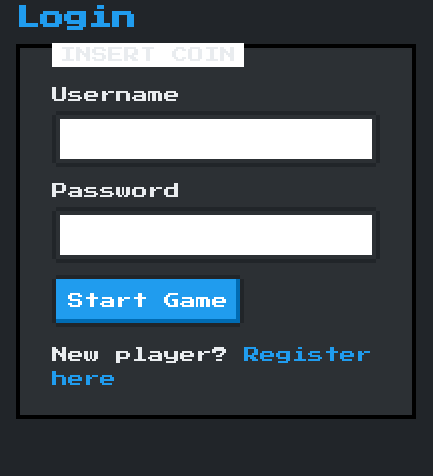
Test: Login page (integration) › failed login shows error message
Type "bad" into the field labelled "Username".
click(216, 139); type("bad")  # box left=56, top=115, right=376, bottom=163
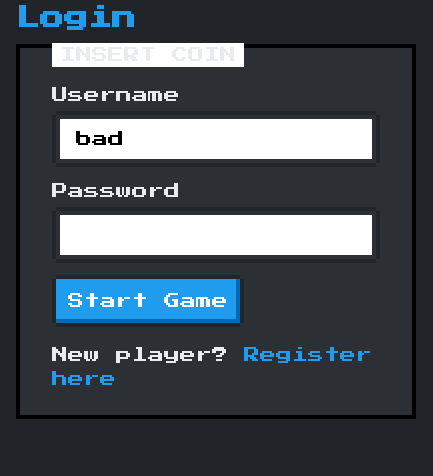
Type "wrong" into the password field labelled "Password".
click(216, 235); type("wrong")  # box left=56, top=211, right=376, bottom=259
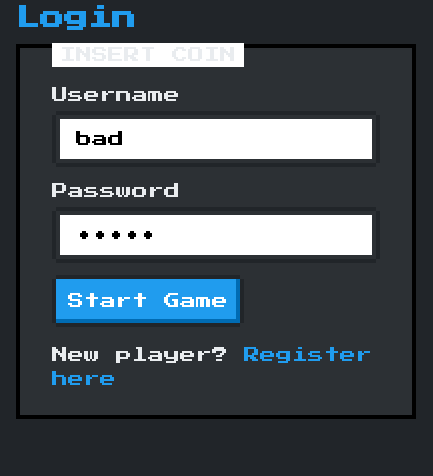
Click the button "Start Game".
click(148, 301)  # box left=56, top=279, right=240, bottom=323
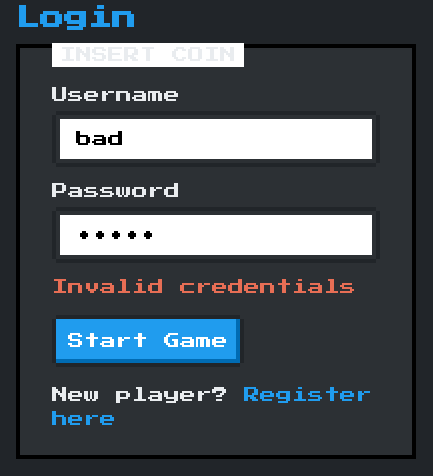
Result: the text "Invalid credentials" is shown at left=52, top=275, right=380, bottom=299
